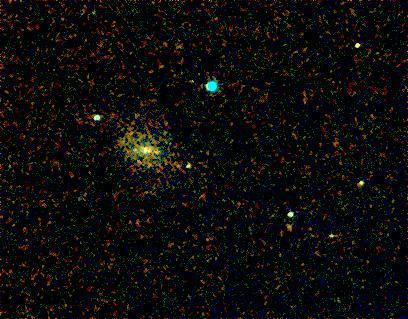star: (273, 212, 303, 242)
